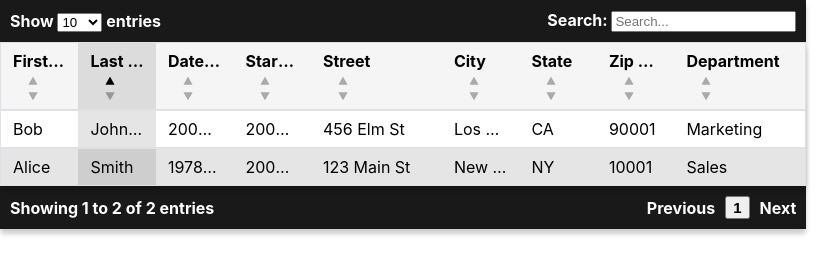
Scenario: TablePlugin › sorts data when header is clicked
Click the column heading "First Name". click: (40, 76)
box: [1,43,78,109]
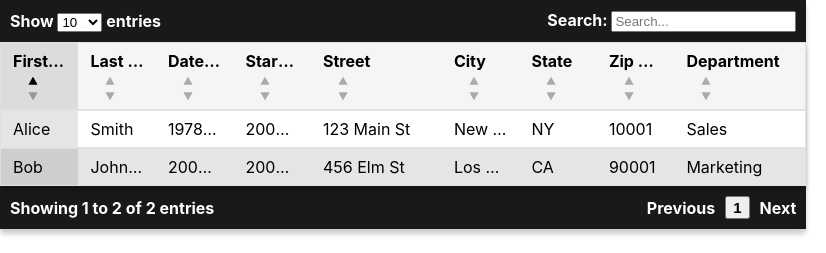
Result: the row that starts with "Alice" is shown at [13,119,50,139]
